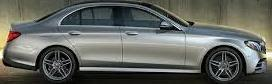Cars: (4, 3, 268, 83)
